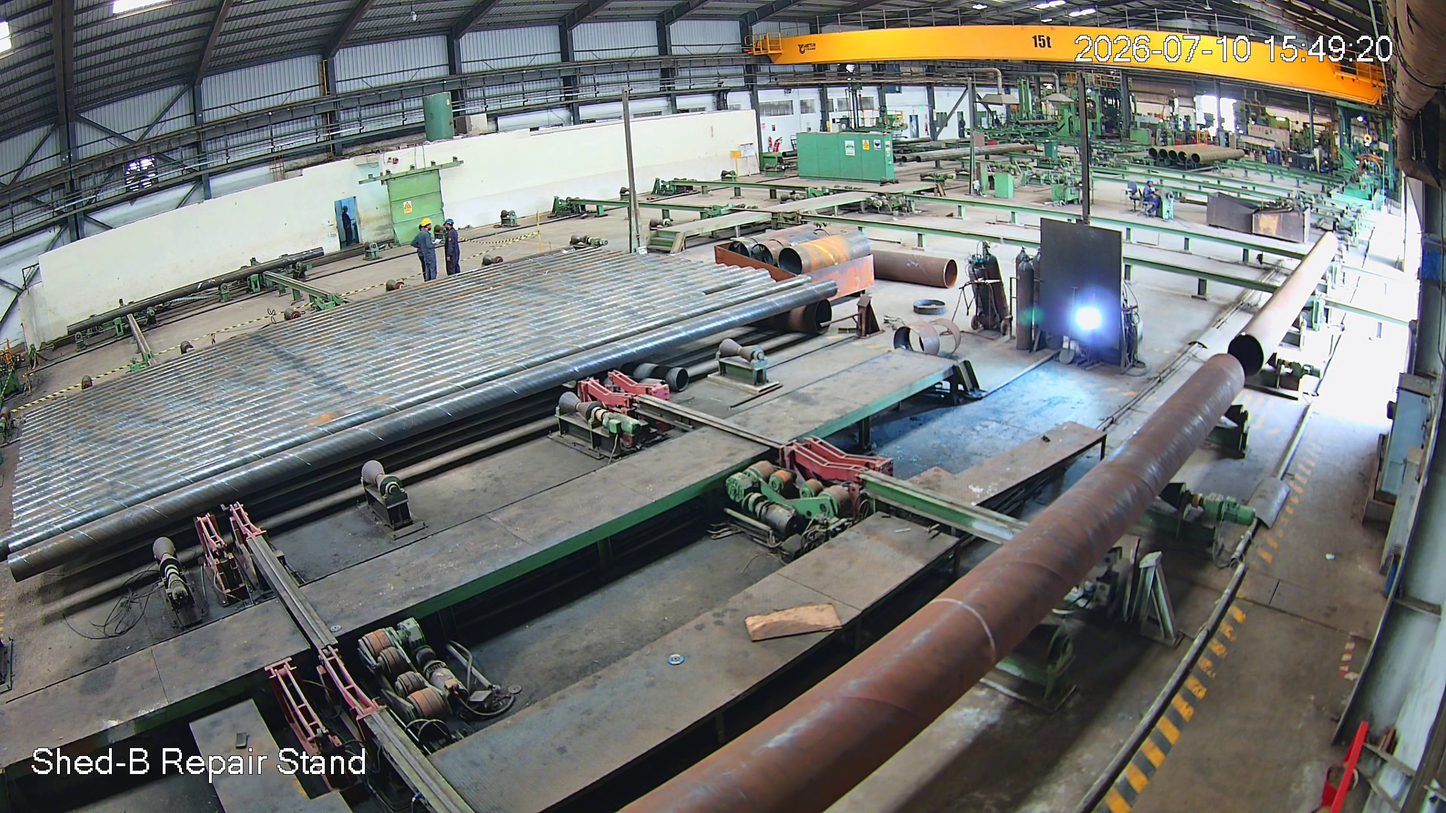Helmet: (422, 216, 435, 234), (443, 217, 456, 231)
Person: (420, 217, 442, 280), (442, 219, 463, 279)
